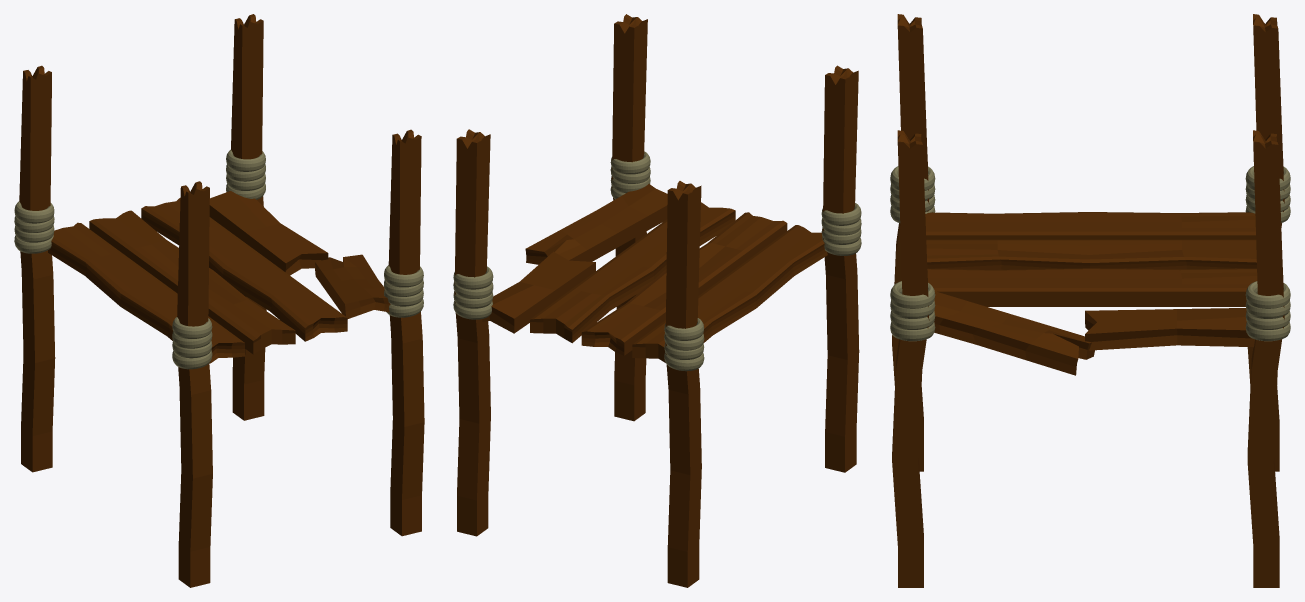
File: Wood Bridge broken.fbx
3 views of the same model, side by side, from view 1: azimuth 30°, elevation 25°; view 2: azimuth 150°, elevation 25°; view 3: azimuth 270°, elevation 25° (orthographic). The views are drawn at different scales.
Visible parts, largest first — view 1: Wood.003, Wood.001, Wood, Wood.002, road.001, Road, road, road.002, road.003; view 2: Wood.001, Wood.002, Wood.003, Wood, road.001, Road, road, road.003, road.002; view 3: Wood.002, Wood, road.001, road, Road, road.003, road.002, Wood.003, Wood.001.
Part boxes in pixels (box(x1,y1,x2,y2)): Wood.003: box(172, 181, 212, 587); Wood.001: box(14, 65, 55, 472); Wood: box(384, 129, 424, 536); Wood.002: box(226, 14, 266, 420); road.001: box(141, 197, 347, 341); Road: box(48, 222, 244, 363); road: box(89, 210, 295, 354); road.002: box(209, 191, 328, 275); road.003: box(315, 254, 390, 318); Wood.001: box(664, 181, 704, 587); Wood.002: box(453, 129, 493, 536); Wood.003: box(821, 65, 861, 472); Wood: box(610, 14, 650, 421); road.001: box(530, 202, 735, 343); Road: box(632, 225, 827, 362); road: box(581, 212, 787, 355); road.003: box(525, 184, 667, 264); road.002: box(482, 251, 595, 333); Wood.002: box(1245, 130, 1290, 587); Wood: box(890, 130, 935, 587); road.001: box(927, 268, 1257, 306); road: box(926, 239, 1256, 269); Road: box(925, 212, 1256, 239); road.003: box(934, 291, 1094, 375); road.002: box(1085, 308, 1254, 350); Wood.003: box(890, 14, 935, 471); Wood.001: box(1245, 14, 1290, 471).
Bounding box in the file's own units: 368 × 534 × 434.
